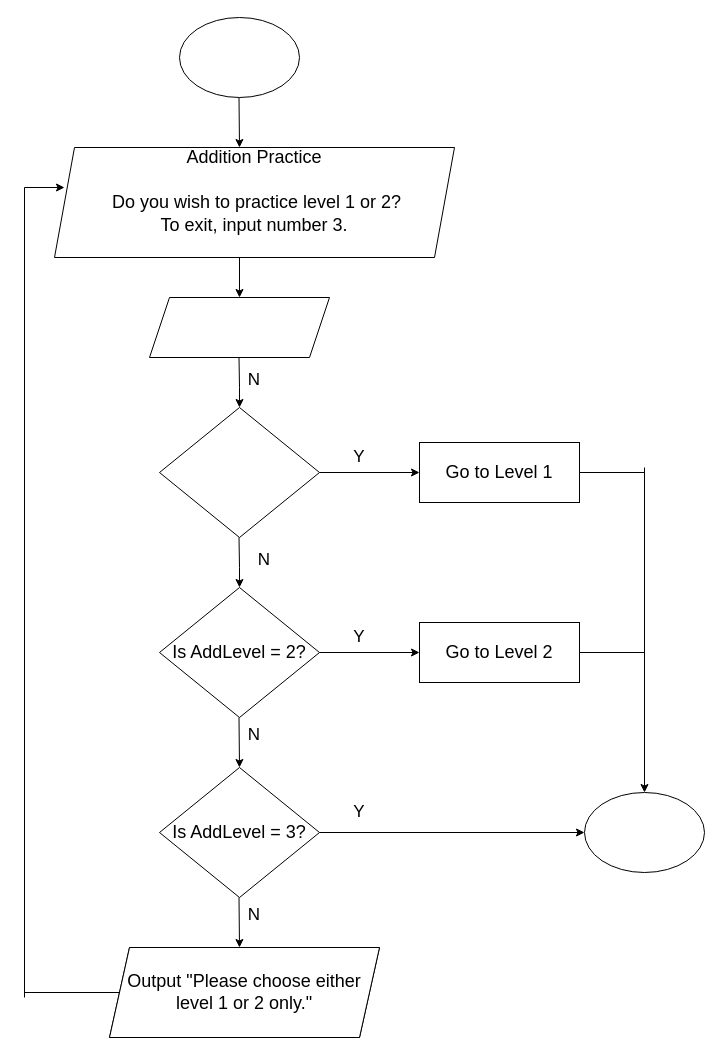
This 722x1055 diagram has some shape labels left out. The centre of each missing label's shape, as x and y in pixels:
End: point (644, 832)
Input AddLevel: point (239, 327)
Is AddLevel = 1?: point (239, 472)
Start: point (239, 57)
